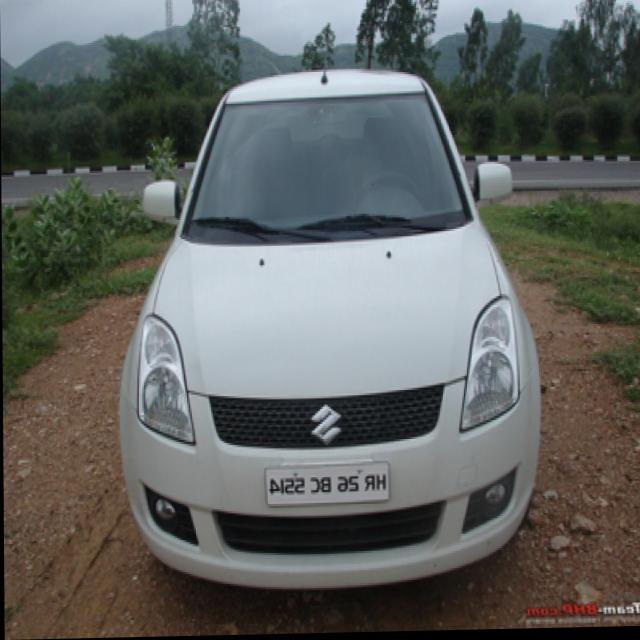licence: (265, 462, 390, 509)
